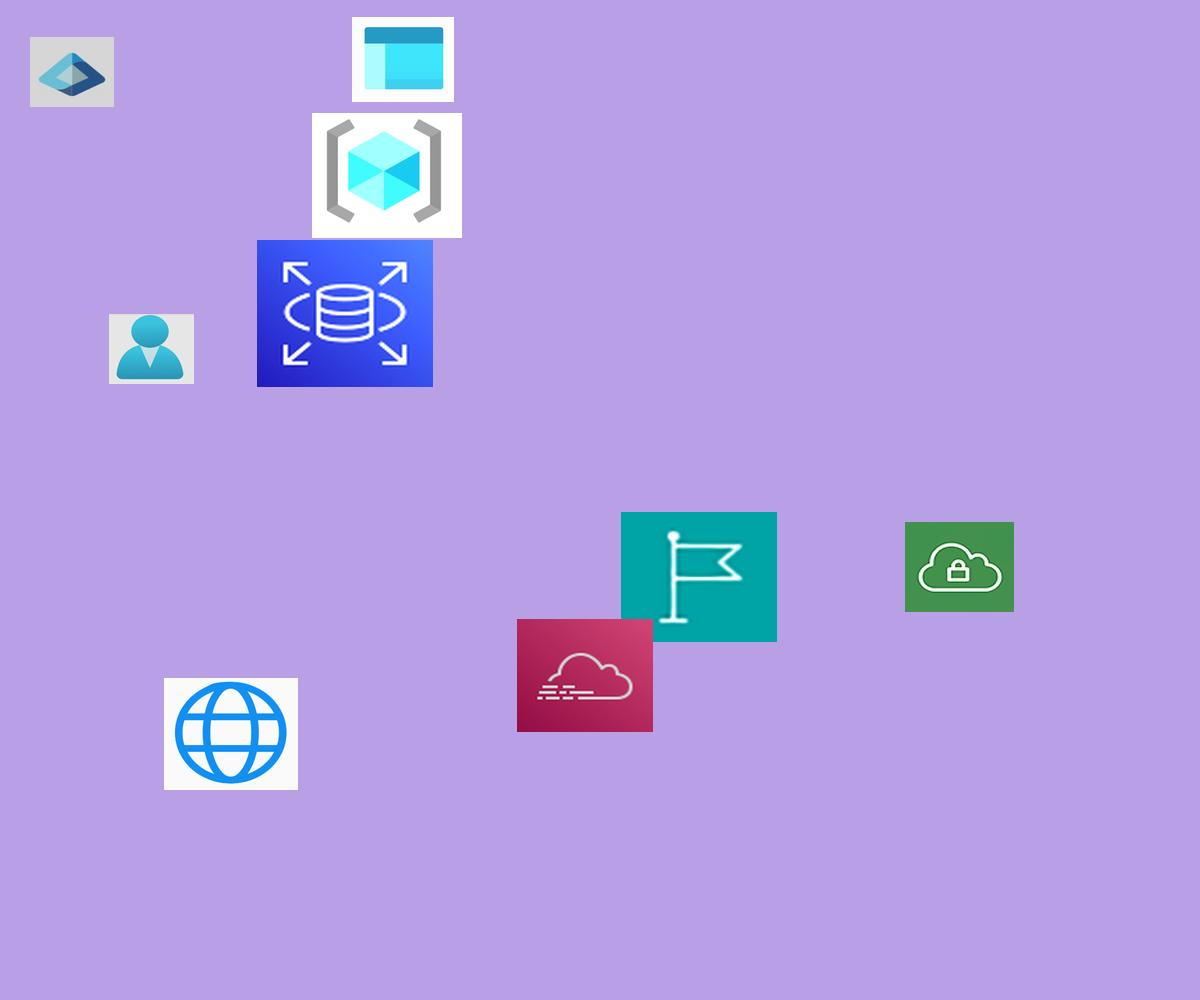AWS-CloudTrail: (517, 619, 653, 732)
AWS-Private_vpc: (905, 522, 1014, 612)
AWS-RDS: (257, 240, 433, 387)
AWS-Region: (621, 512, 777, 642)
Azure_http: (164, 678, 298, 790)
Azure_management-portal: (352, 17, 454, 102)
Azure_microsoft_entra: (30, 37, 114, 107)
Azure_resource_group: (312, 113, 462, 238)
Azure_users: (109, 314, 194, 384)
